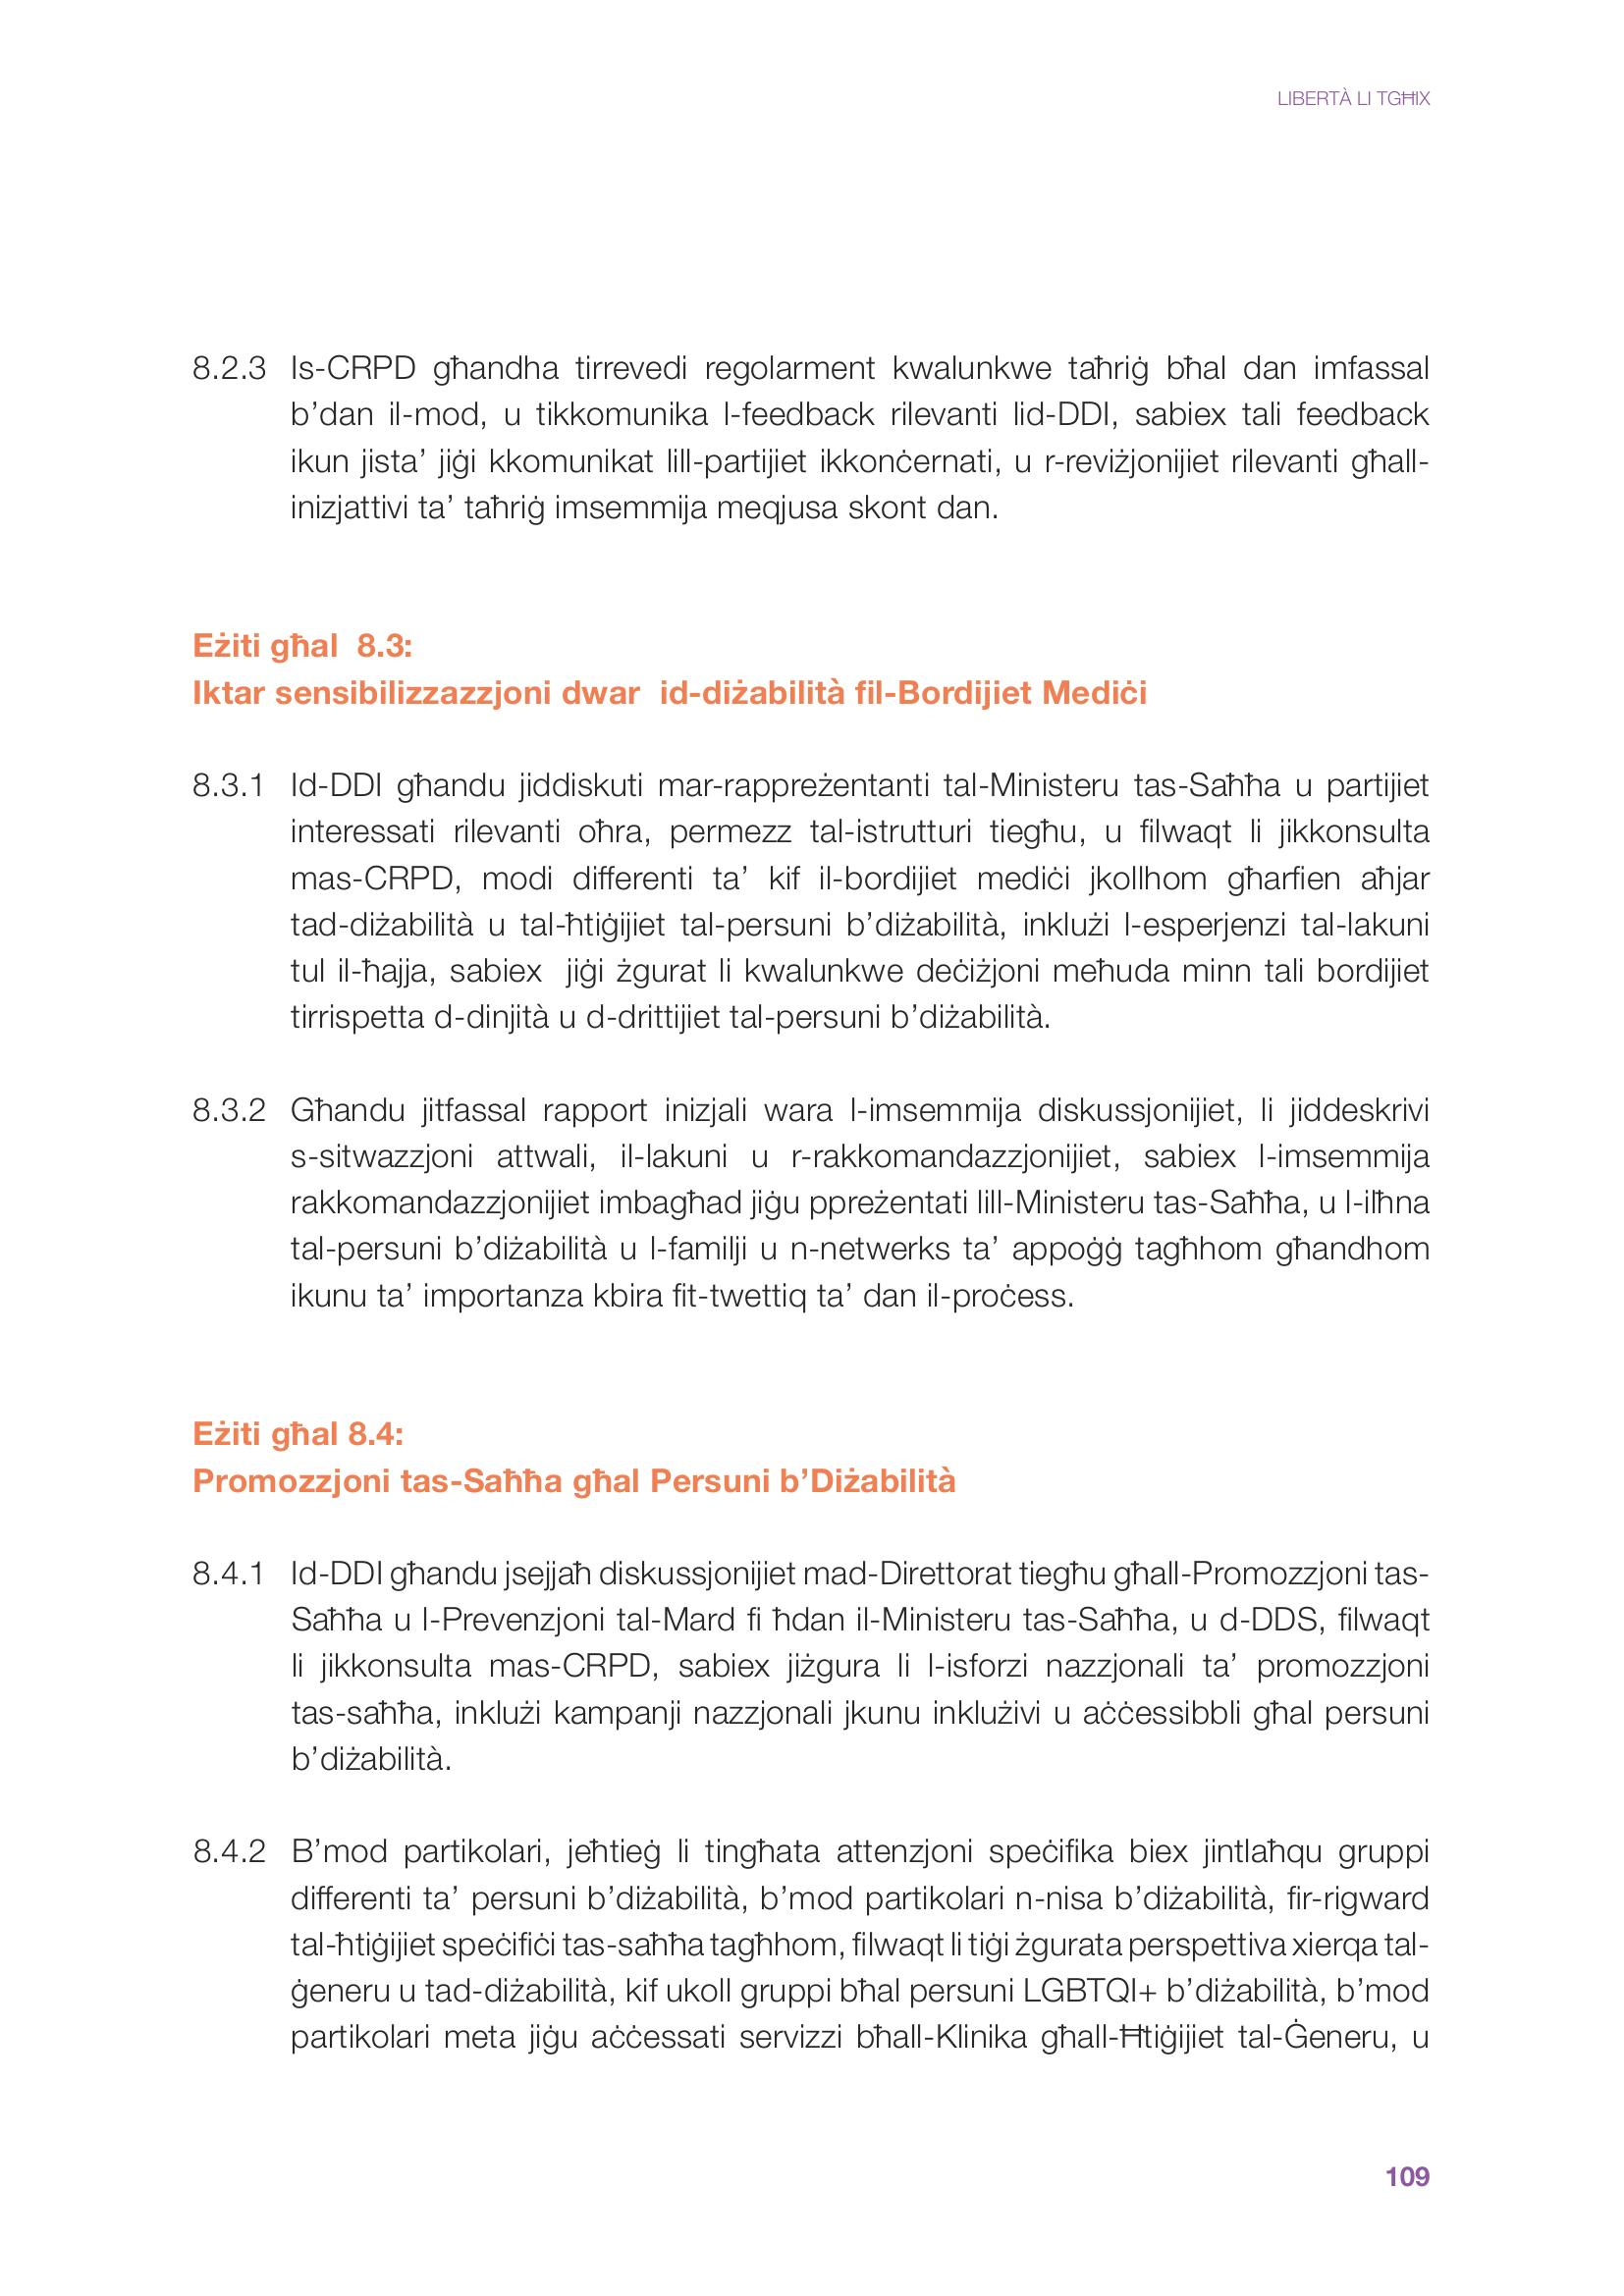text: (148, 323, 1475, 2082)
